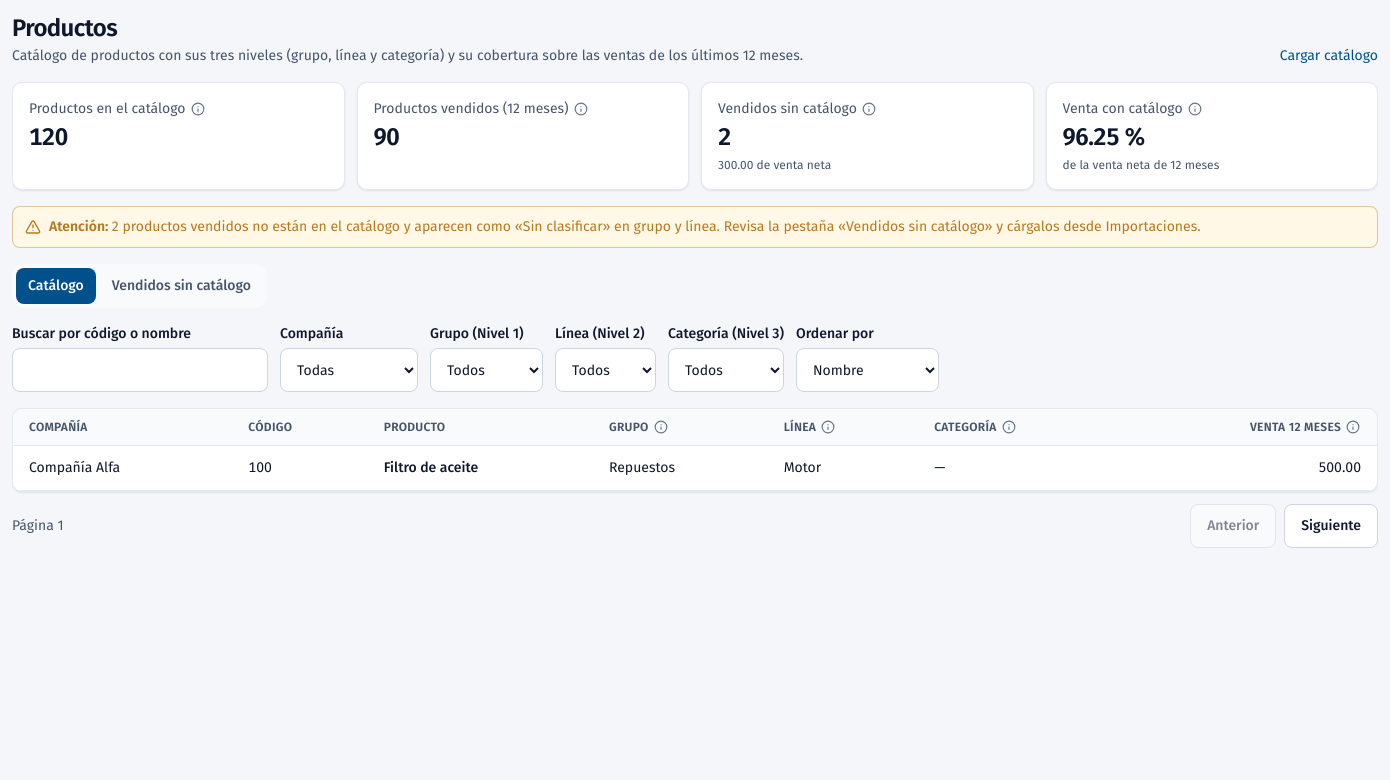
Test case: catálogo de productos › lista los productos vendidos que no están en el catálogo
Click the tab "Vendidos sin catálogo" at (181, 286), box [100, 268, 263, 304]
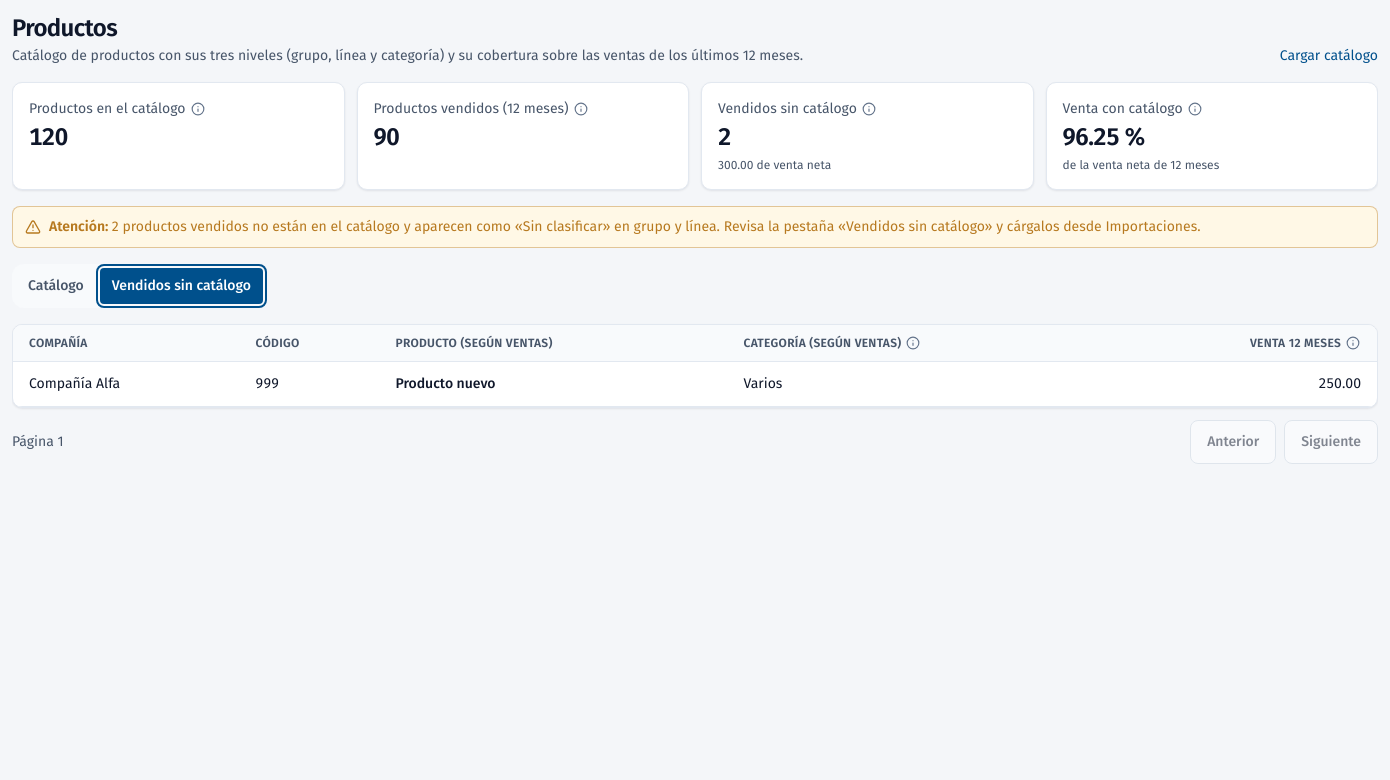
Result: the text "Producto nuevo" is shown at [380, 362, 728, 406]
Result: the text "Varios" is shown at [728, 362, 1114, 406]
